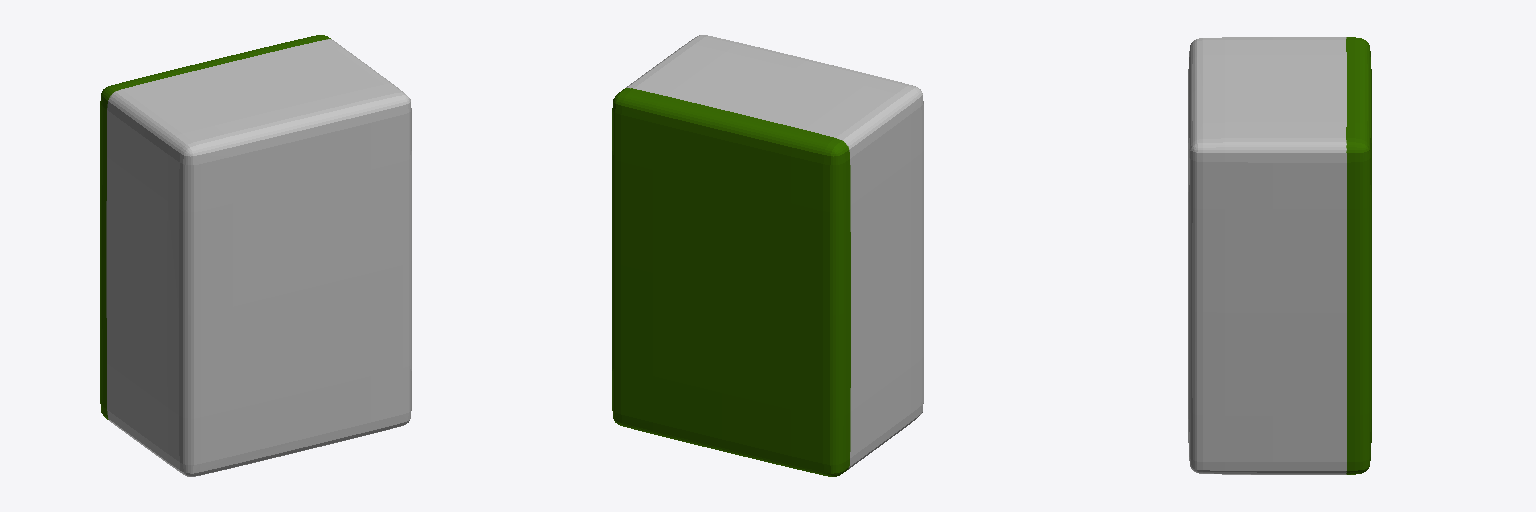
3 renders of one model, left to right at view 1: azimuth 30°, elevation 25°; view 2: azimuth 150°, elevation 25°; view 3: azimuth 270°, elevation 25°, orthographic.
Visible parts, largest first — view 1: Mahjong; view 2: Mahjong; view 3: Mahjong.
Part boxes in pixels (bbox=[...]): Mahjong: bbox=[100, 35, 411, 476]; Mahjong: bbox=[612, 35, 923, 476]; Mahjong: bbox=[1188, 37, 1371, 474].
Bounding box in the file's own units: 0.029 × 0.04 × 0.02.
Materials: 1 (1 with a texture image).